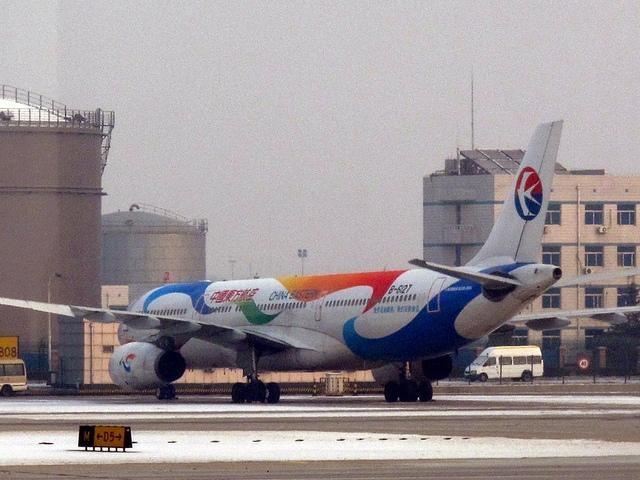bus: (463, 345, 545, 383)
truck: (464, 344, 544, 383), (0, 359, 31, 392)
